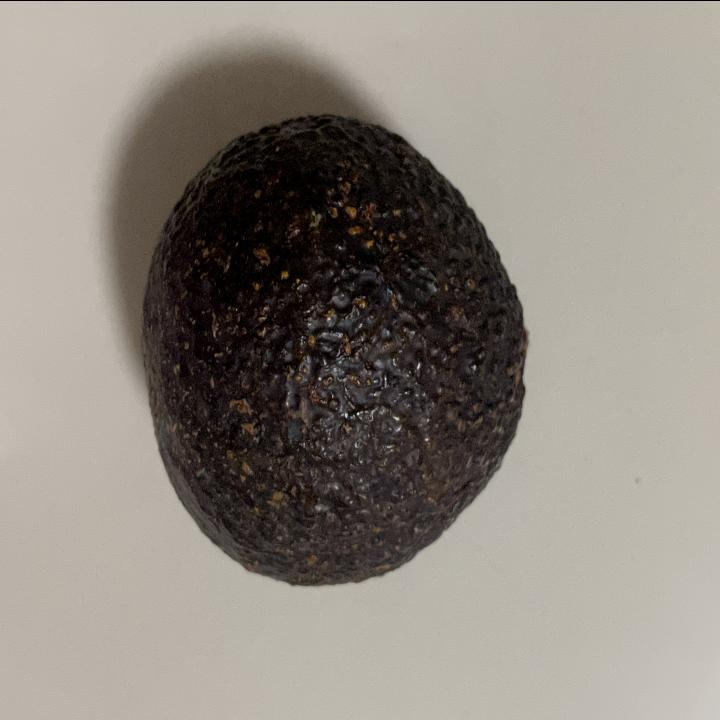Level3: (134, 102, 538, 598)
